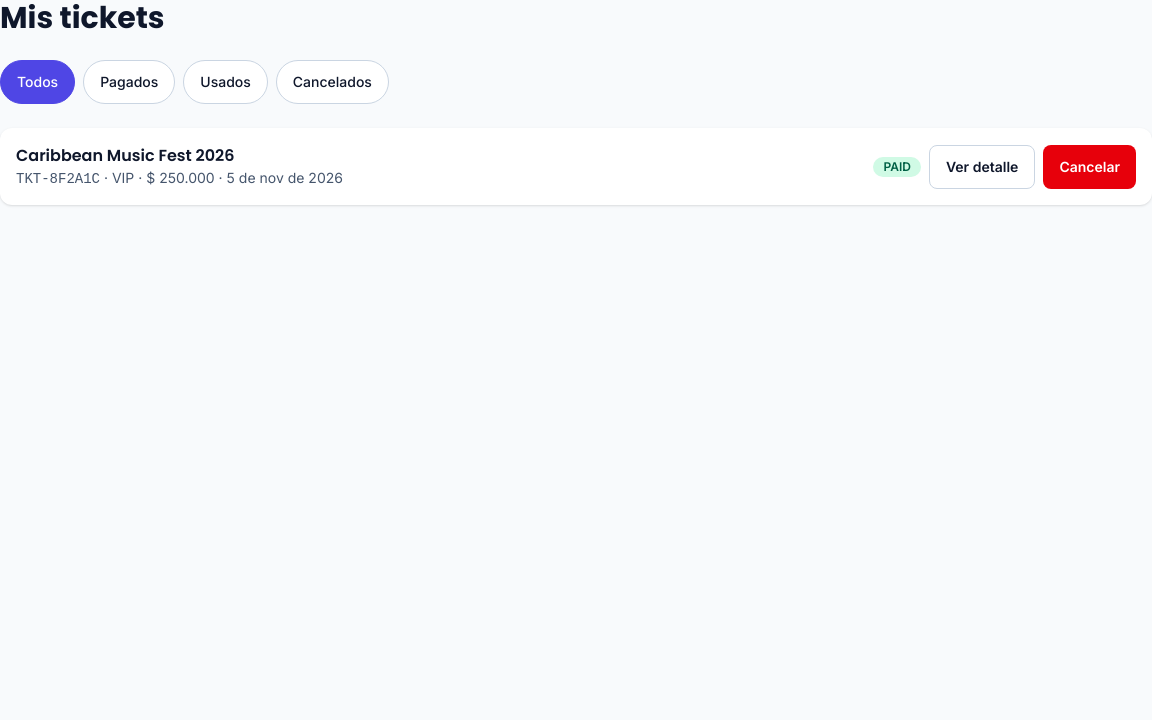
Test case: mis tickets › cancelar un ticket PAID → 200 y la lista se actualiza
Click the button "Cancelar": [1090, 166] box [1043,144,1136,188]
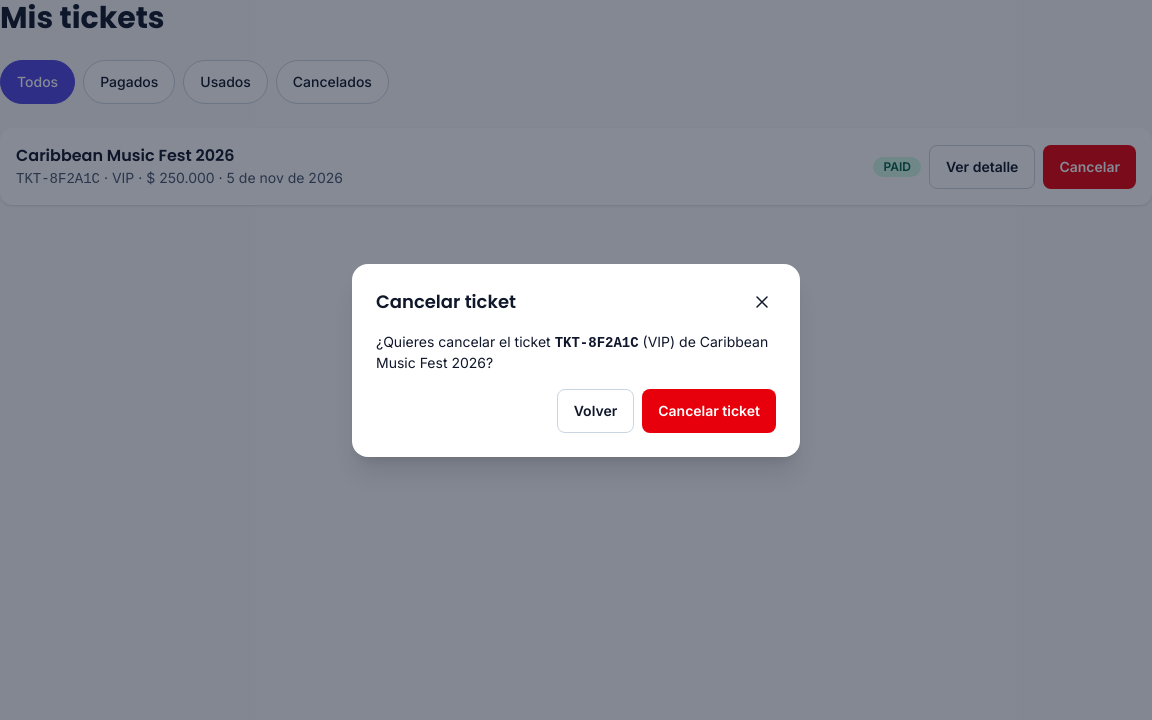
Click the button "Cancelar ticket": [709, 410] box [642,388,776,432]
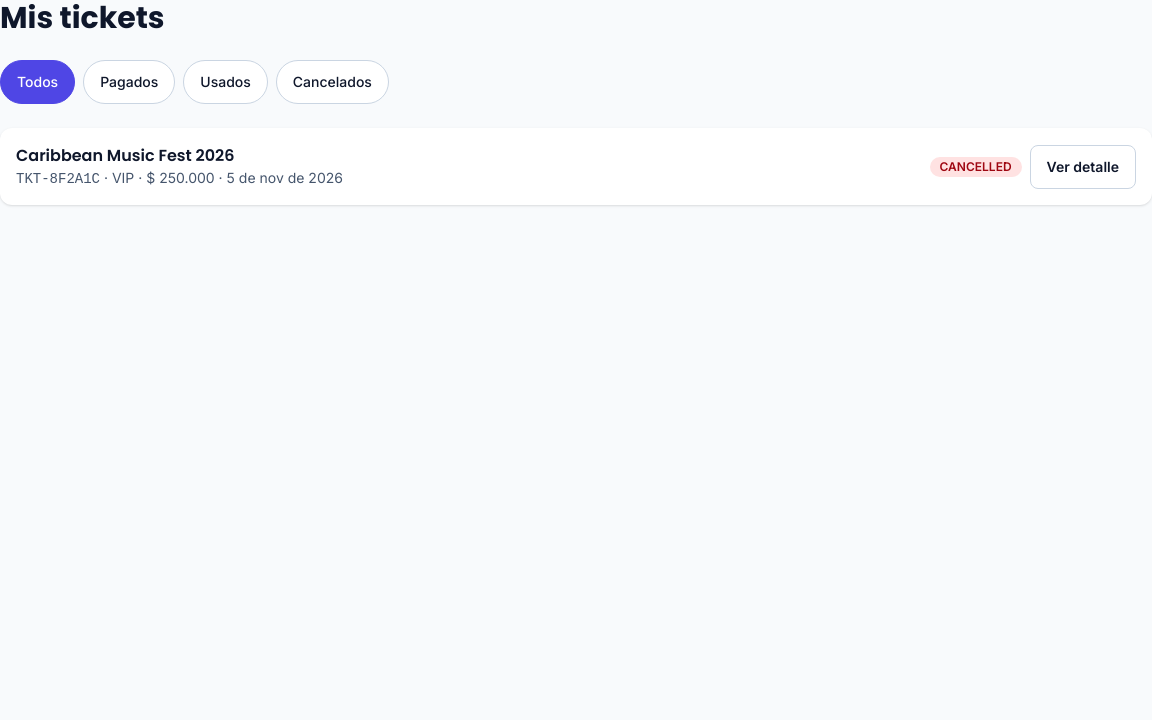
Now the text "CANCELLED" is shown, box [930,156,1022,176]
Now the dialog is gone
